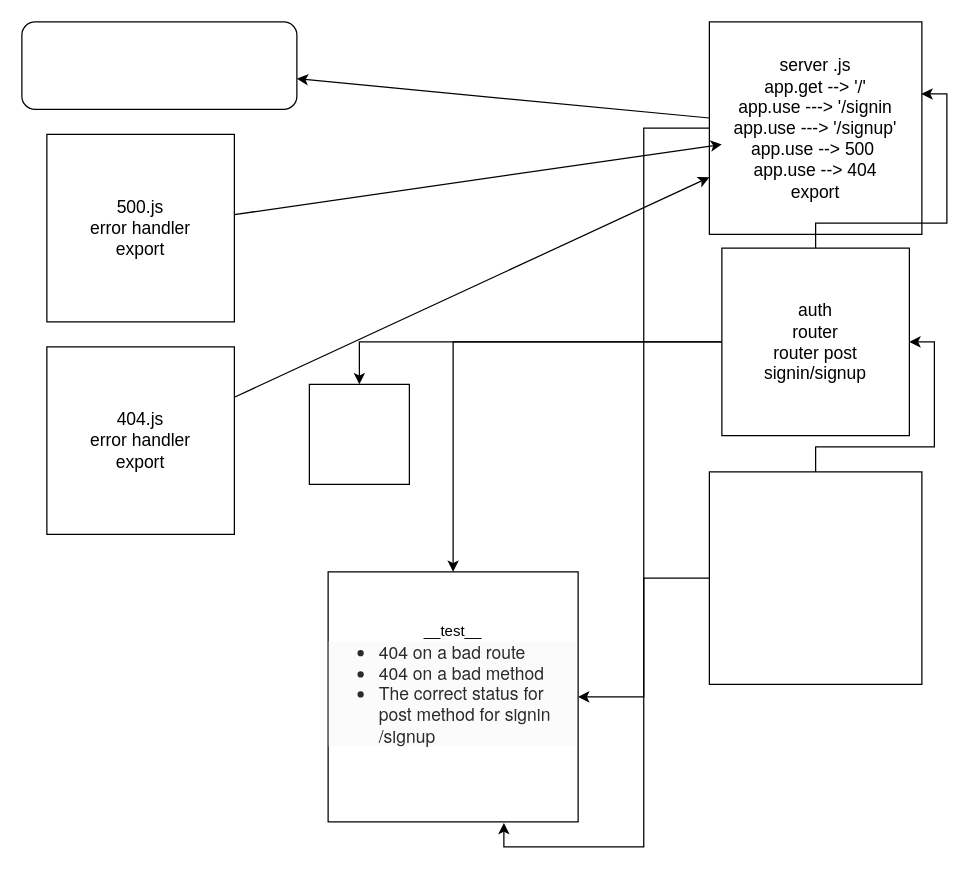
Some shapes in this 979 by 879 pixel diagram are drawn without their labels. The box of each missing label's shape, as (x1, y1, x2, y2) in pixels:
basic auth middlewear: (708, 471, 922, 684)
database save new user /signin get the user from data base: (308, 383, 409, 484)
index.js to start the server npm start/nodemon: (21, 21, 297, 109)
